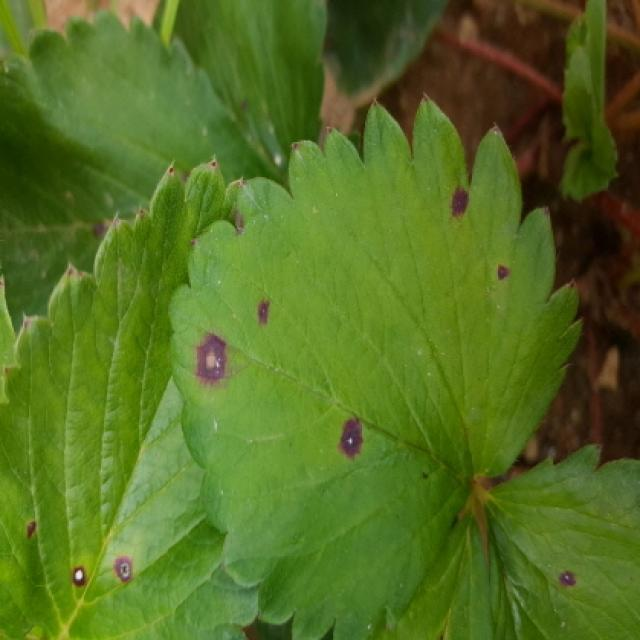Leaf Spot: (167, 90, 586, 638), (0, 152, 261, 638), (0, 9, 270, 335), (156, 0, 330, 193), (479, 442, 638, 638)
